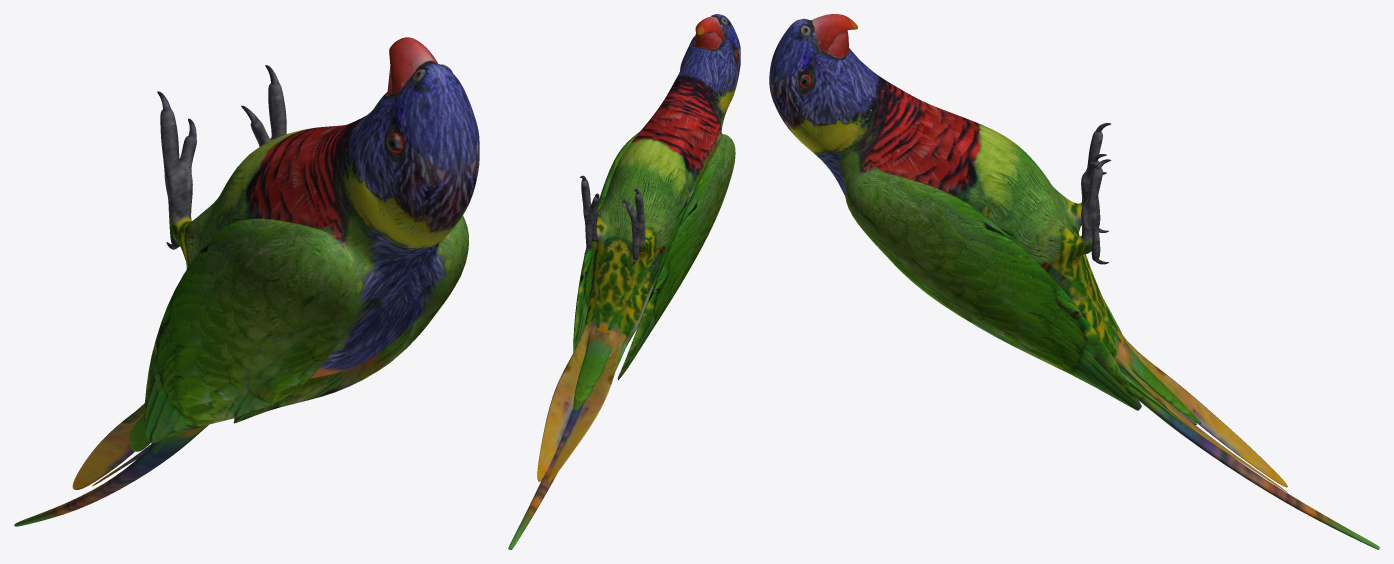
Rendered from 12242_Australian_Rainbow_Lorikeet_v1_l3.obj.
3 renders of one model, left to right at view 1: azimuth 30°, elevation 25°; view 2: azimuth 150°, elevation 25°; view 3: azimuth 270°, elevation 25°, orthographic. The views are drawn at different scales.
Parts seen in each view (by area): view 1: 12242_Australian_Rainbow_Lorikeet; view 2: 12242_Australian_Rainbow_Lorikeet; view 3: 12242_Australian_Rainbow_Lorikeet.
Part boxes in pixels (<box>): 12242_Australian_Rainbow_Lorikeet: <box>14,37,479,526</box>; 12242_Australian_Rainbow_Lorikeet: <box>508,14,740,549</box>; 12242_Australian_Rainbow_Lorikeet: <box>769,14,1379,549</box>.
Bounding box in the file's own units: 14.65 × 54.18 × 56.05.
1 material, 1 textured.
